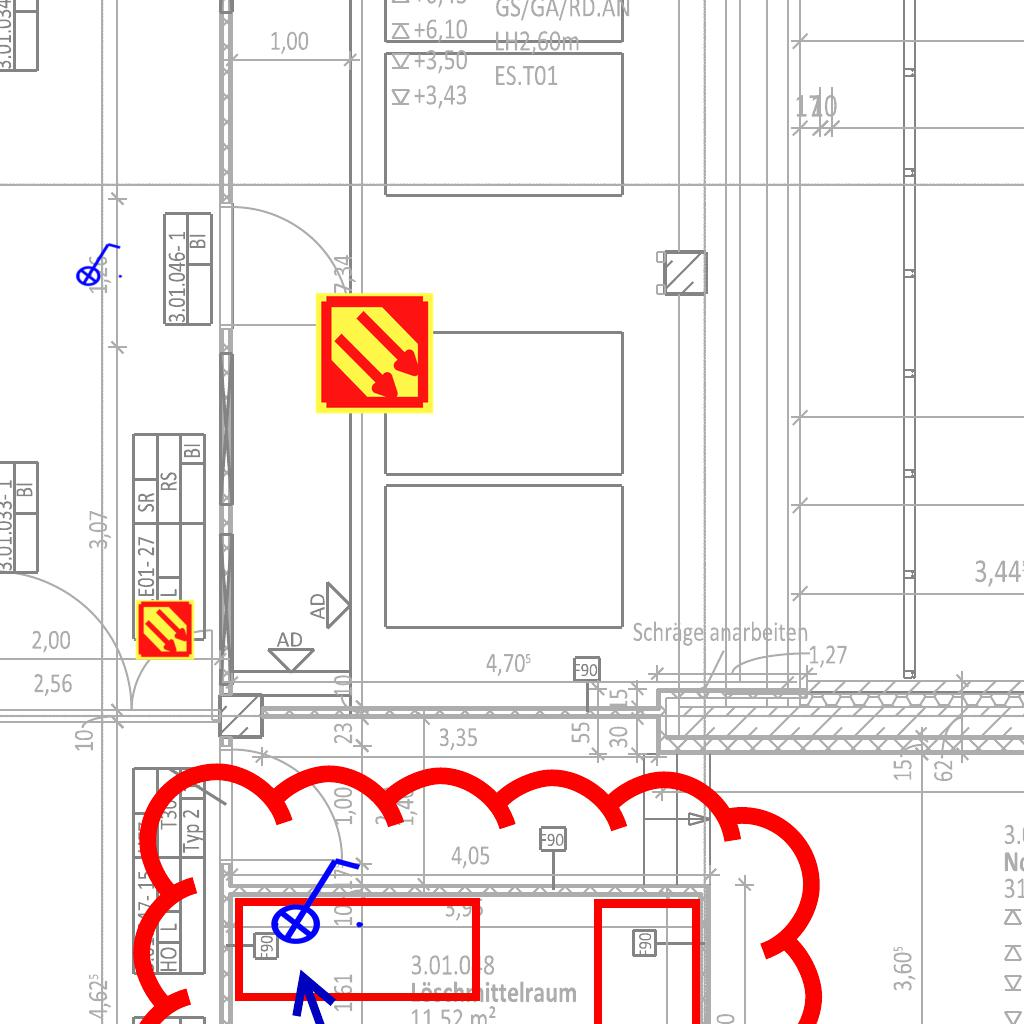ASR_Ansaugrauchmelder: (312, 291, 437, 416), (134, 599, 196, 661)
Ausschalter_beleuchtet: (257, 850, 369, 946), (69, 239, 125, 287)
